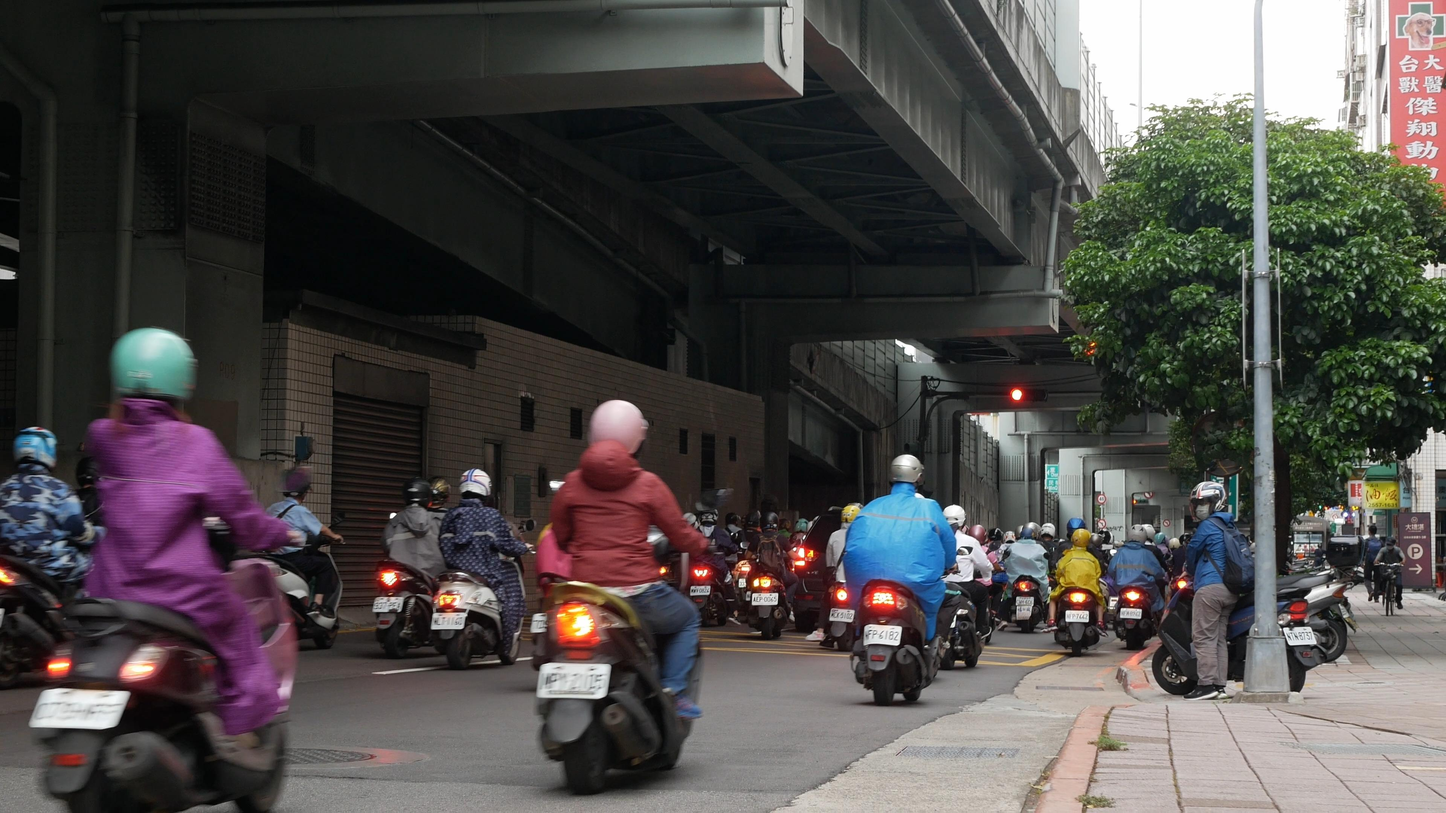bicyclist: (1373, 536, 1406, 616)
driver: (29, 327, 312, 813), (536, 399, 739, 813), (843, 454, 972, 707), (0, 426, 108, 690), (430, 468, 536, 670), (238, 467, 346, 650), (371, 476, 448, 659), (1039, 517, 1108, 657), (806, 502, 864, 652), (1107, 524, 1173, 650), (740, 511, 802, 640), (687, 505, 738, 626), (997, 522, 1050, 633)
helmet: (109, 327, 198, 401), (587, 399, 649, 460), (13, 426, 58, 473), (1189, 481, 1228, 523), (889, 454, 925, 489), (459, 468, 492, 501), (402, 476, 433, 510), (427, 476, 452, 505), (943, 504, 967, 531), (968, 524, 987, 547), (1066, 517, 1085, 540), (1128, 524, 1148, 545), (760, 511, 779, 533), (1072, 528, 1091, 548), (841, 505, 861, 523), (699, 507, 718, 525), (1022, 522, 1041, 540), (745, 510, 760, 528), (1141, 524, 1155, 543), (793, 518, 809, 534), (725, 512, 741, 527), (1154, 532, 1169, 548), (1042, 523, 1056, 540), (1089, 534, 1103, 550), (1179, 533, 1193, 549), (988, 528, 1002, 541), (1020, 528, 1035, 540), (1003, 531, 1016, 544), (1169, 538, 1181, 549)
no-helmet: (1385, 536, 1396, 551), (1368, 525, 1377, 535)
